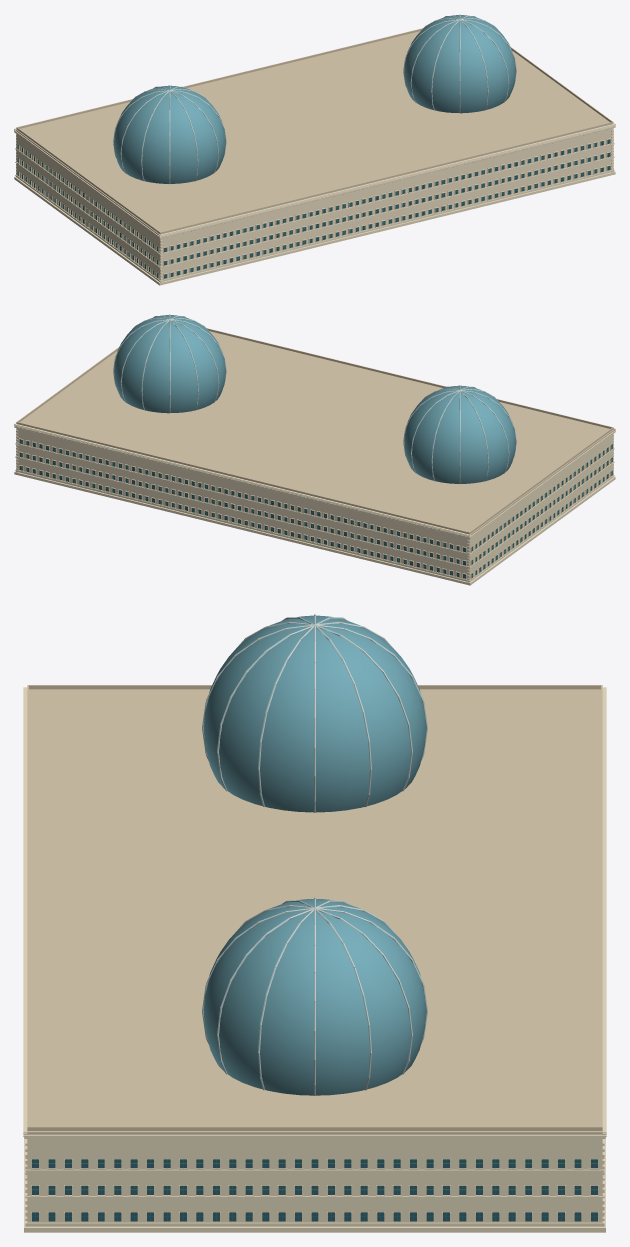
The model's file is convention-center.glb.
The picture shows the model from 3 angles, top to bottom: view 1: azimuth 30°, elevation 25°; view 2: azimuth 150°, elevation 25°; view 3: azimuth 270°, elevation 25°; orthographic projection. The views are drawn at different scales.
Visible parts, largest first — view 1: convention-center; view 2: convention-center; view 3: convention-center.
Part boxes in pixels (bbox=[...]): convention-center: bbox=[14, 14, 615, 285]; convention-center: bbox=[14, 314, 615, 585]; convention-center: bbox=[23, 614, 606, 1232].
Size of the model in its own units: 164 by 42 by 91.05.
